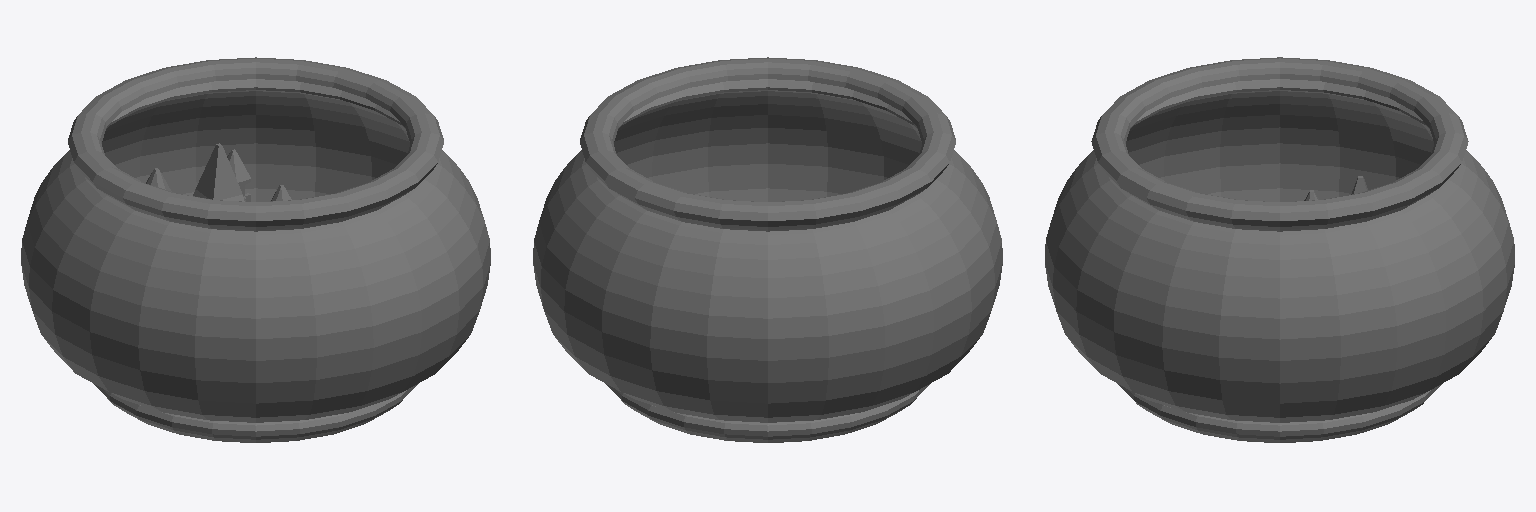
The model's file is CastleInFishbowl.obj.
3 views of the same model, side by side, from view 1: azimuth 30°, elevation 25°; view 2: azimuth 150°, elevation 25°; view 3: azimuth 270°, elevation 25° (orthographic).
Visible parts, largest first — view 1: revolvedSurface1, pCube1; view 2: revolvedSurface1; view 3: revolvedSurface1.
Part boxes in pixels (left/top/right/bottom): revolvedSurface1: left=21, top=57, right=490, bottom=442; pCube1: left=146, top=143, right=291, bottom=201; revolvedSurface1: left=533, top=57, right=1002, bottom=442; revolvedSurface1: left=1045, top=57, right=1514, bottom=442.
Bounding box in the file's own units: 18.38 × 10.65 × 18.38.